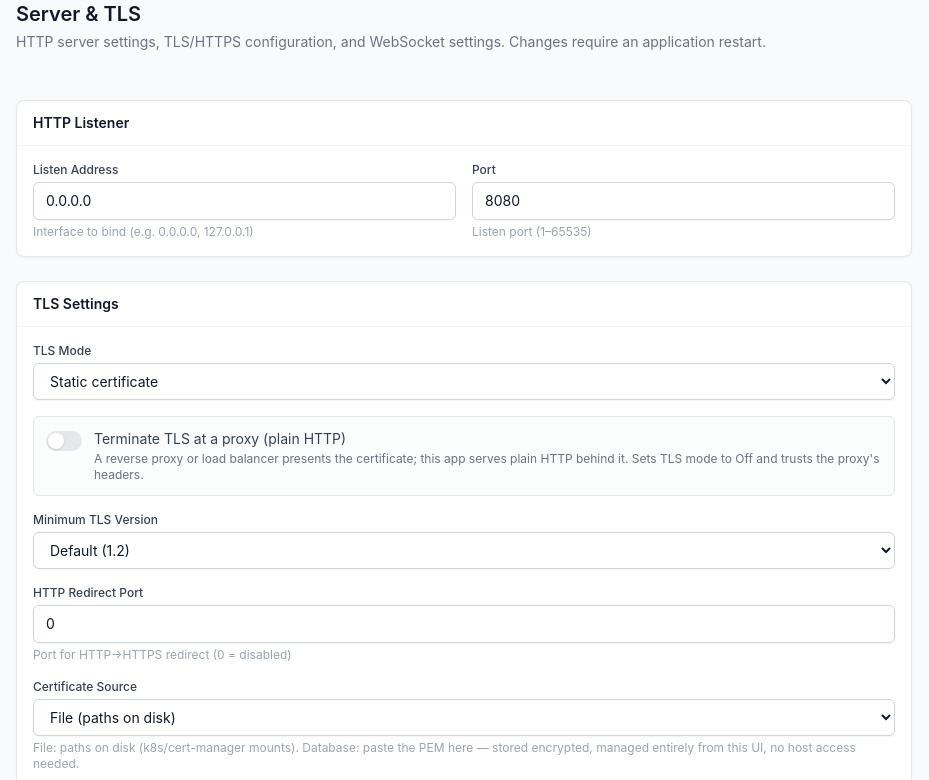
Test: AdminServerPage › shows the CSR generation panel only for db source
Expected: the heading "Server & TLS" is shown, [16,2,141,26]
Expected: the button "generate csr" is not shown
Toggle to db: CSR panel appears.
Select "Database (paste PEM)" in the dropdown named "Certificate source": (464, 718) [33,699,895,736]
(page scrolled)
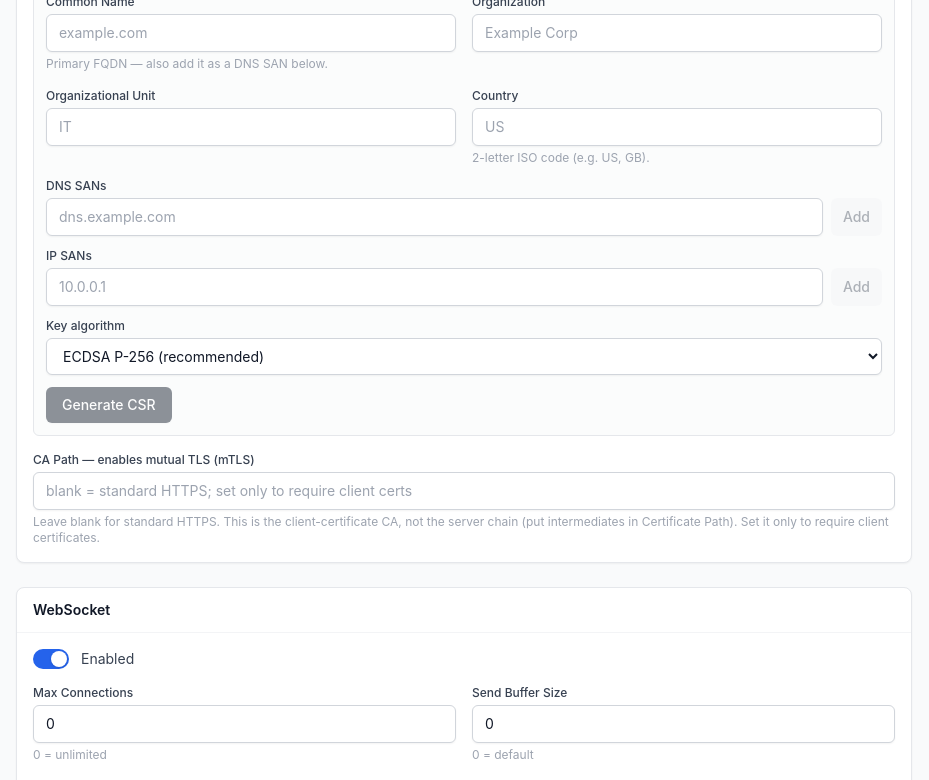
Now the button "Generate CSR" is shown, box [46,387,172,423]
